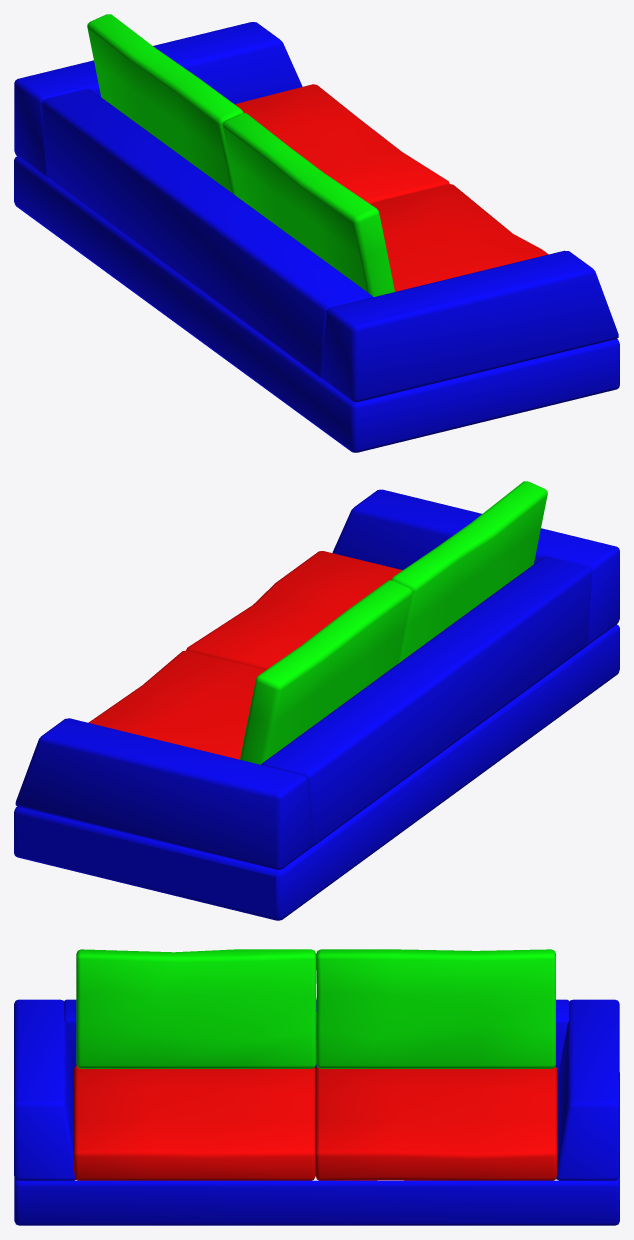
Rendered from sofa_two_seater.glb.
The picture shows the model from 3 angles, top to bottom: view 1: azimuth 30°, elevation 25°; view 2: azimuth 150°, elevation 25°; view 3: azimuth 270°, elevation 25°; orthographic projection. The views are drawn at different scales.
Visible parts, largest first — view 1: Sofa_Two_Seater; view 2: Sofa_Two_Seater; view 3: Sofa_Two_Seater.
Part boxes in pixels (bbox=[...]): Sofa_Two_Seater: bbox=[14, 14, 619, 452]; Sofa_Two_Seater: bbox=[14, 481, 619, 920]; Sofa_Two_Seater: bbox=[14, 949, 619, 1225].
Bounding box in the file's own units: 2 × 1.5 × 4.4.
